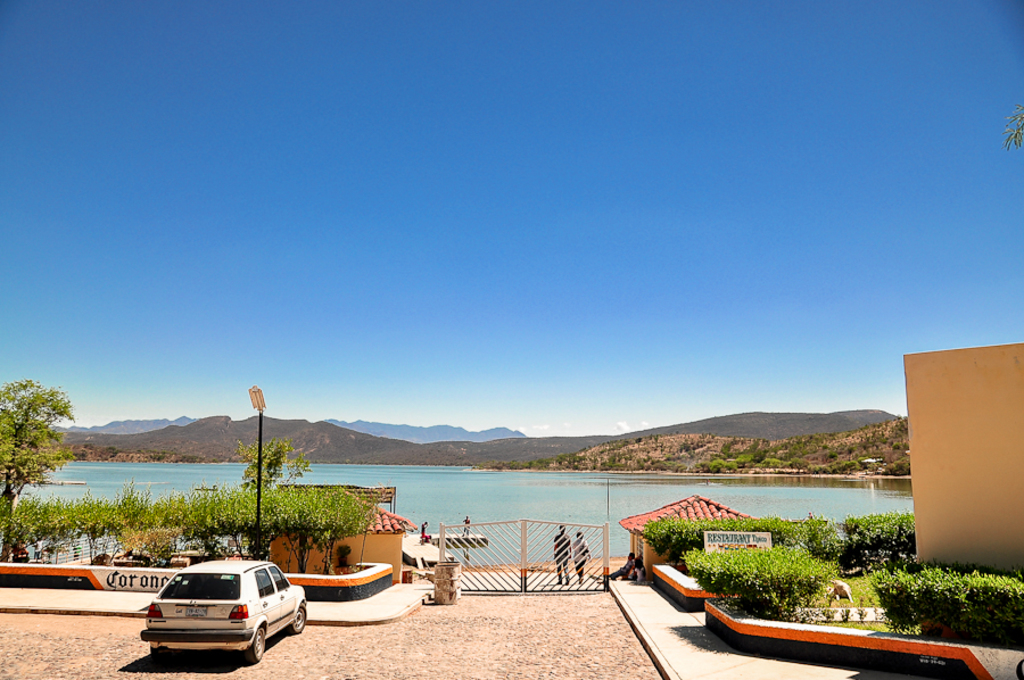cars: (137, 558, 308, 660)
